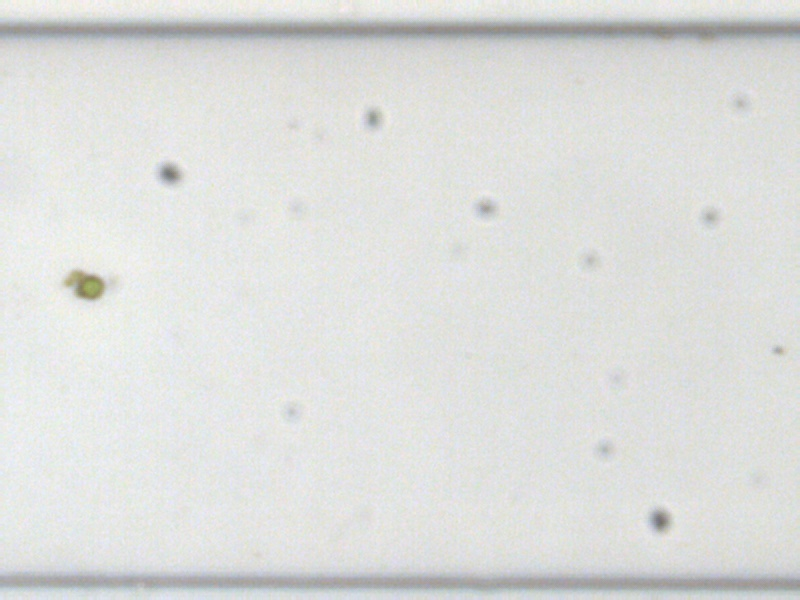Chlorella: (75, 278, 105, 299), (61, 269, 80, 286)
